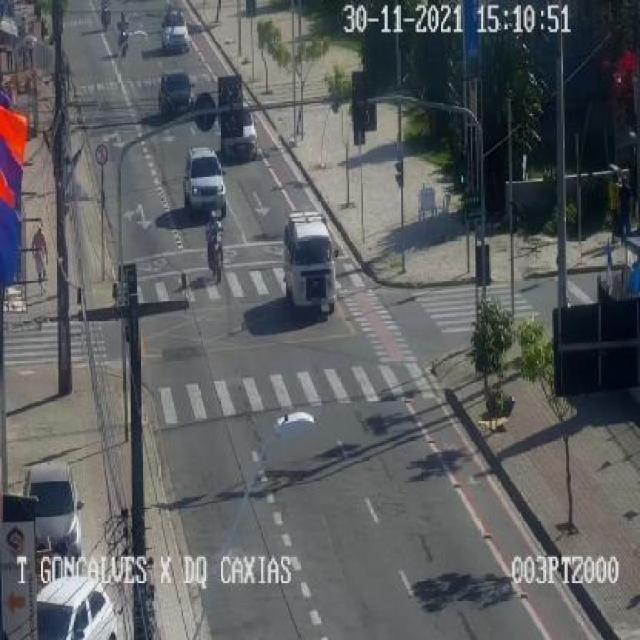Bus: (283, 212, 339, 312)
Car: (21, 462, 82, 557), (36, 577, 118, 639), (179, 141, 232, 215), (220, 112, 259, 161), (158, 72, 194, 117), (161, 8, 190, 53)
Cycle: (196, 214, 238, 278), (113, 8, 136, 55)
